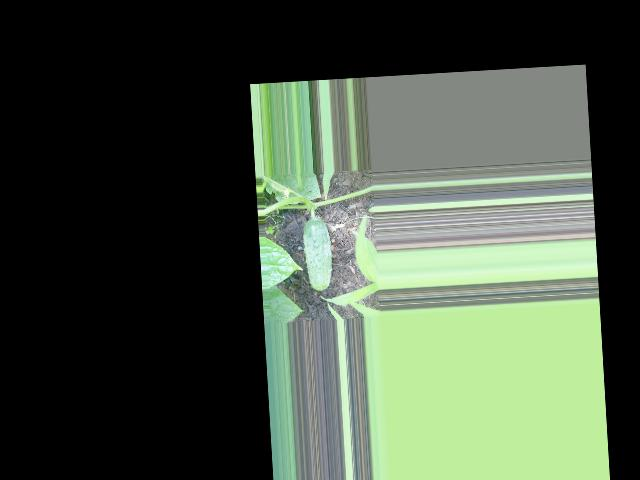cucumber: (302, 216, 334, 292)
